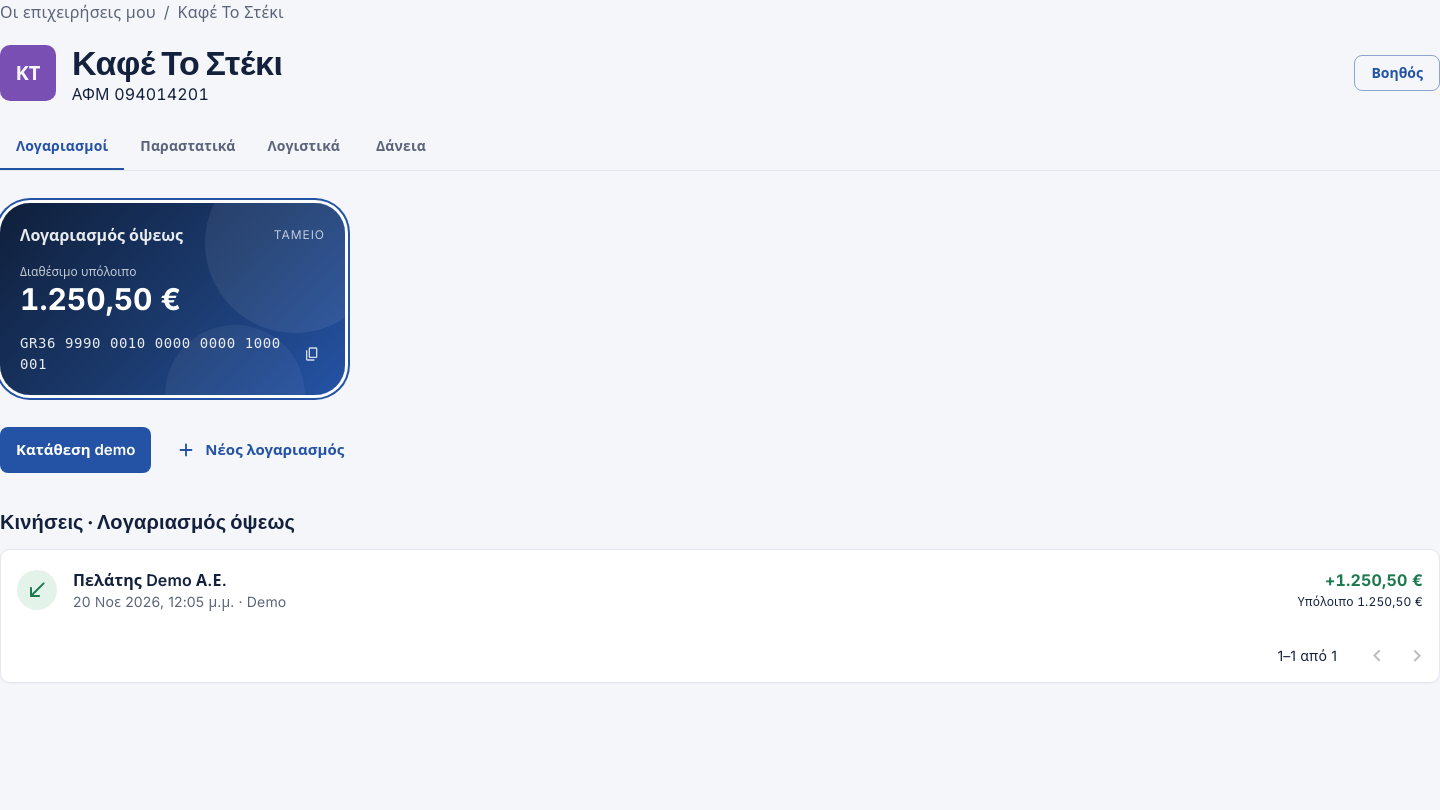
Test case: AccountsPage › adds a demo deposit and shows the new balance
Click the button "Κατάθεση demo".
click(76, 450)  # box [0,427,151,473]
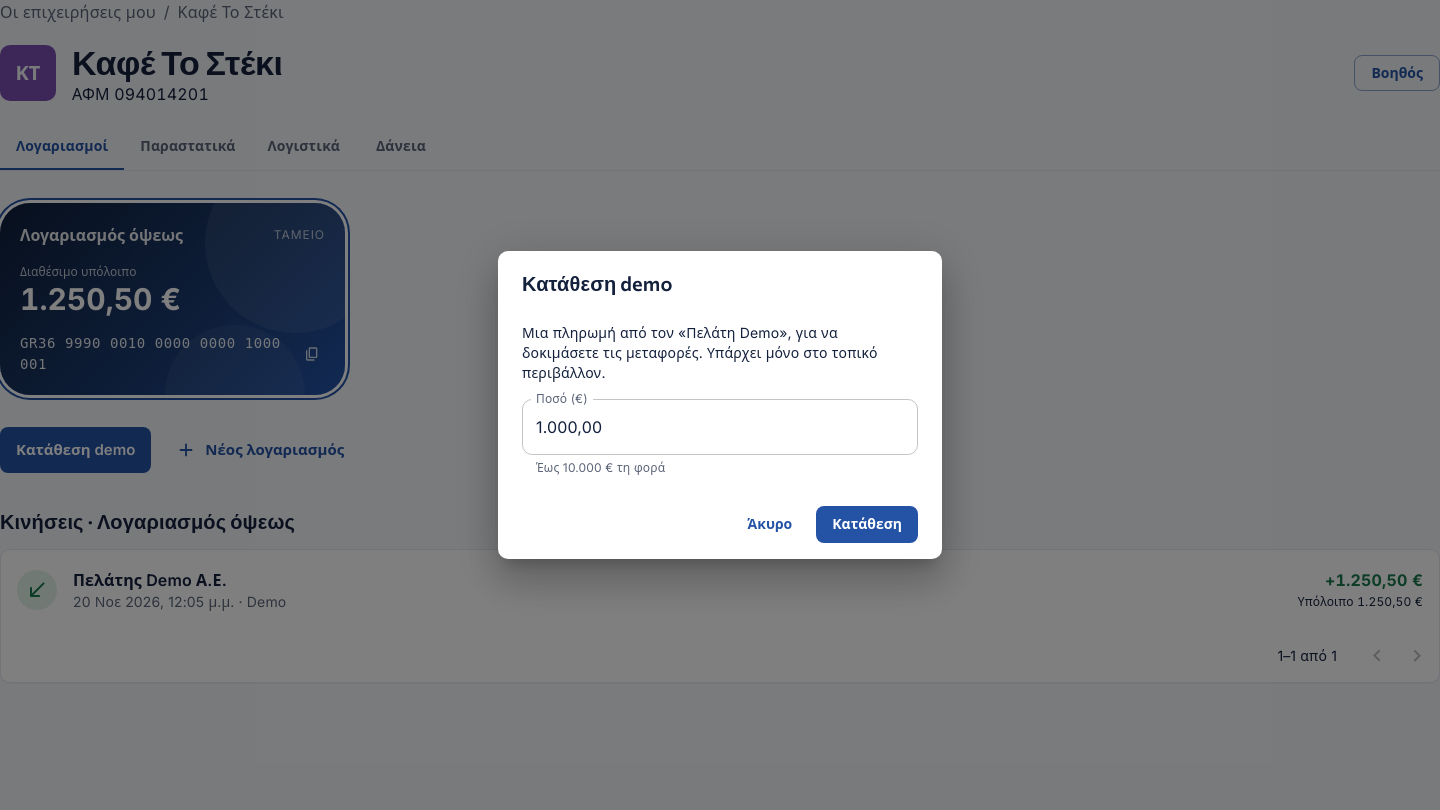
Replace the text in the field labelled "Ποσό (€)" with "300" at (720, 427), box [522,399,918,455]
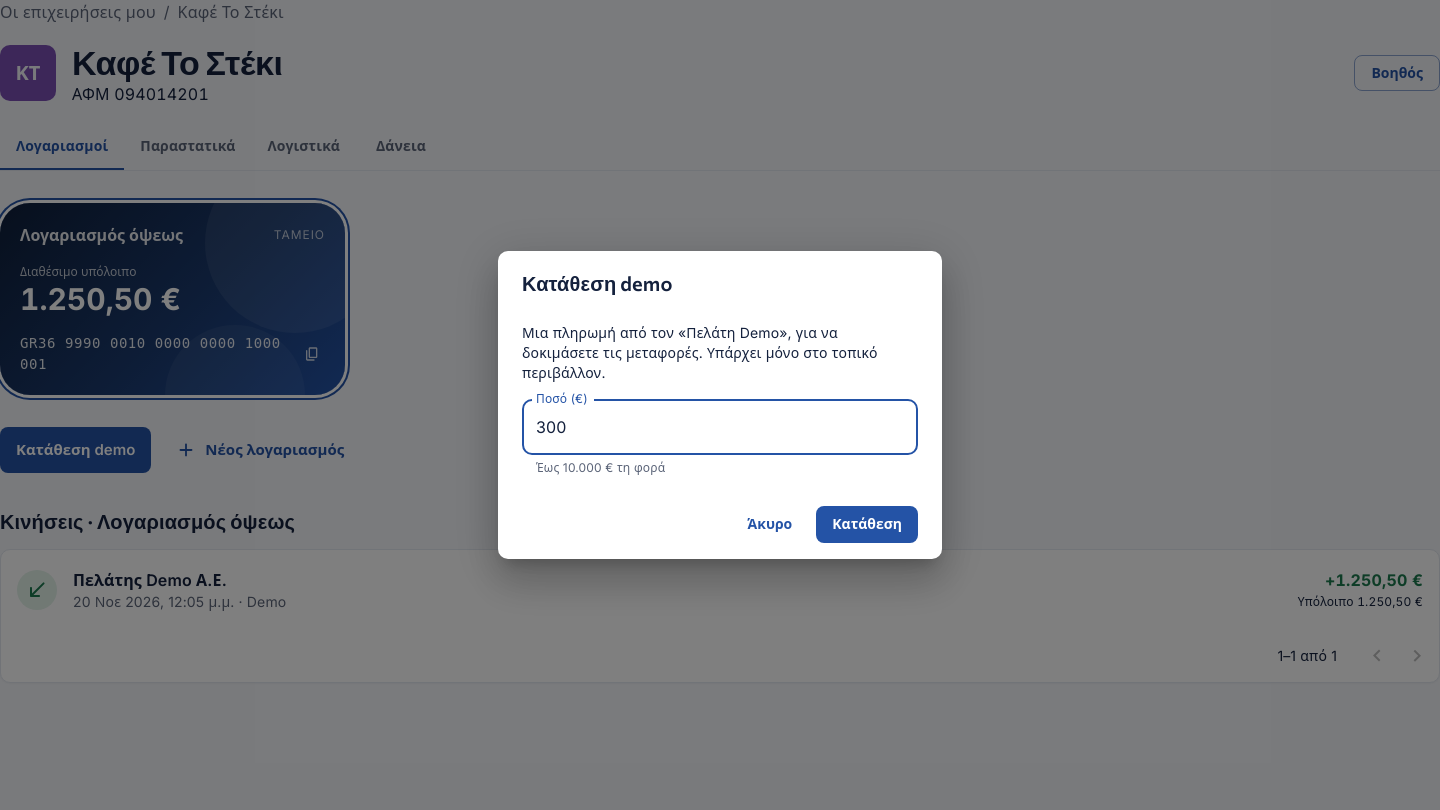
Click the button "Κατάθεση".
click(867, 524)  # box [816,506,918,543]
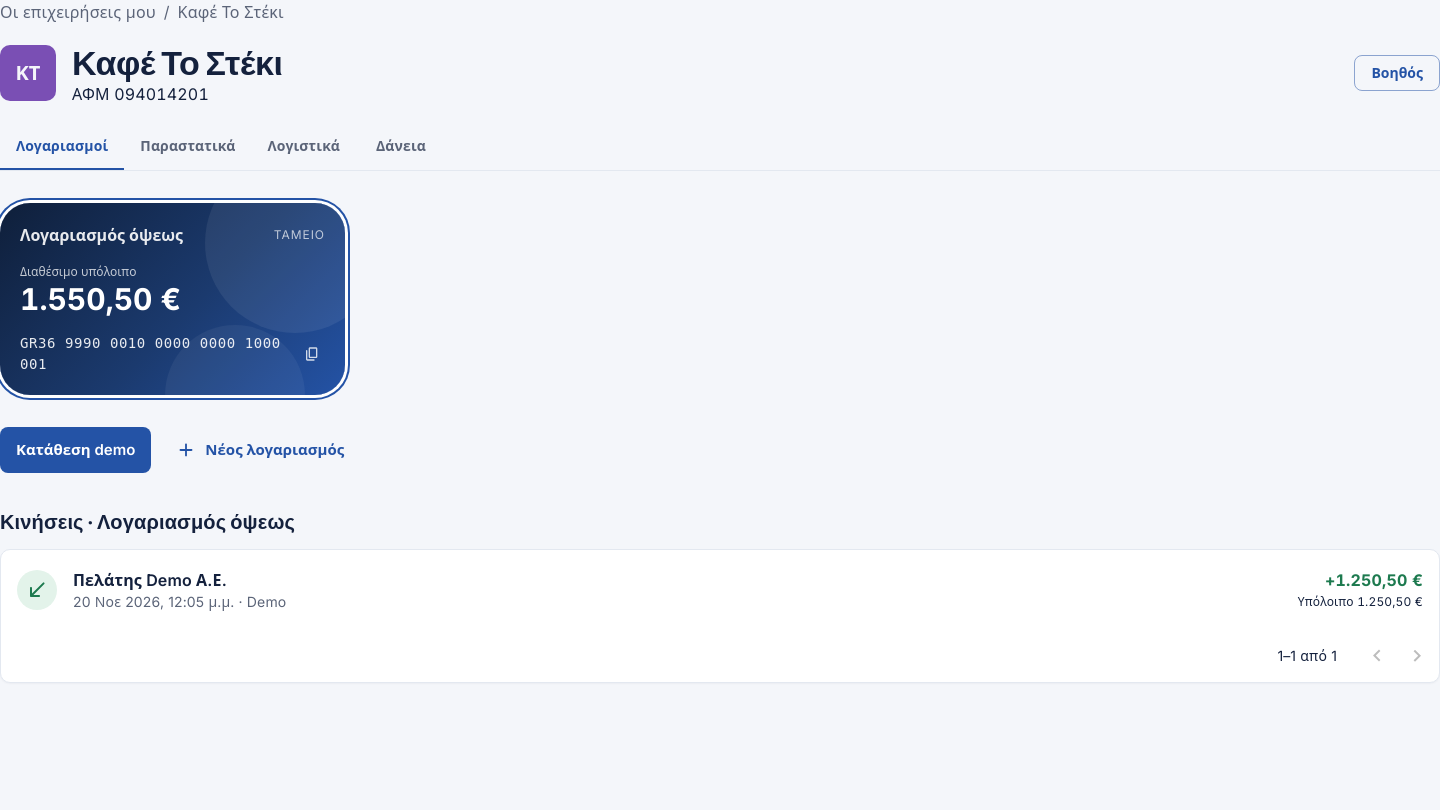
Check: the button "υπόλοιπο 1.550,50" is shown, box [0,203,345,395]
